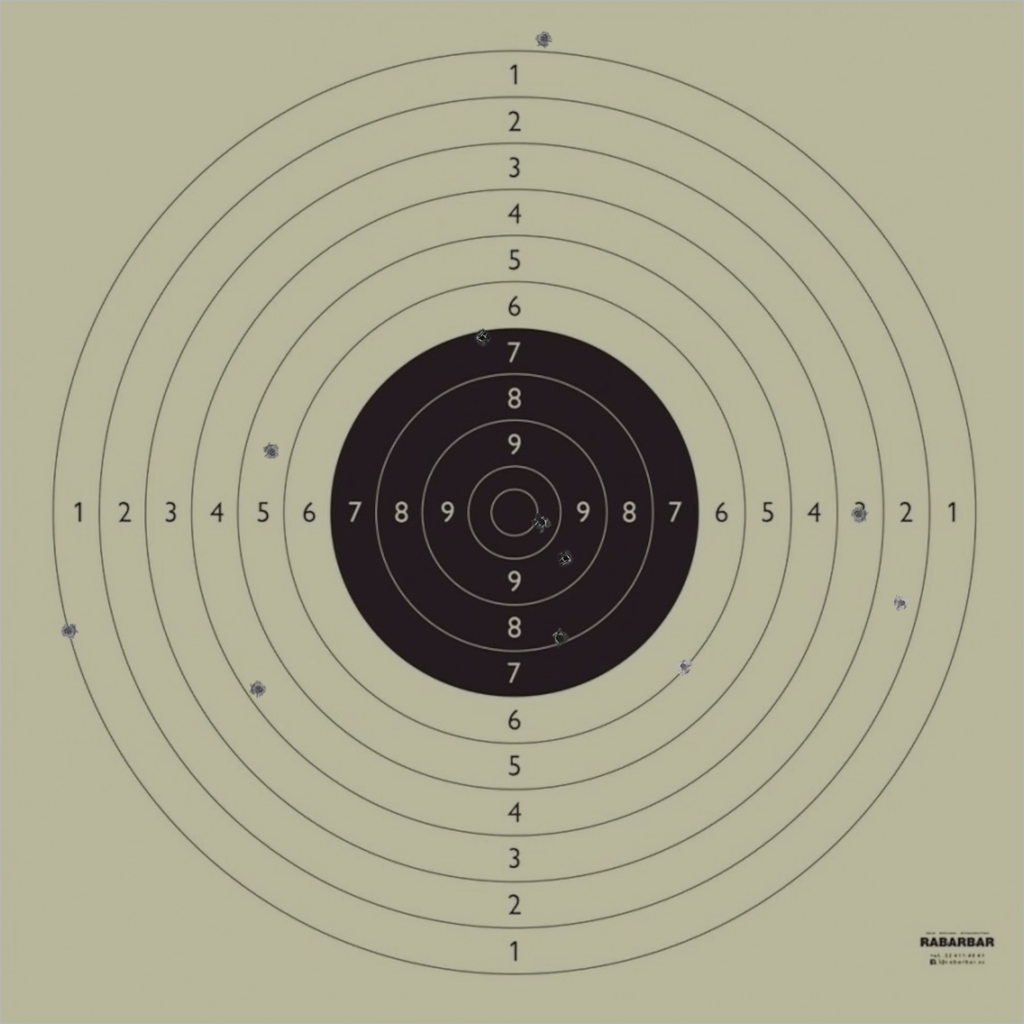0 punktow: (535, 30, 553, 48)
1 punkt: (59, 622, 78, 640)
10 punktow: (532, 513, 550, 531)
2 punkty: (892, 594, 911, 612)
3 punkty: (850, 505, 868, 523)
4 punkty: (249, 680, 268, 698)
5 punktow: (262, 443, 281, 461)
6 punktow: (675, 657, 693, 676)
7 punktow: (473, 329, 491, 347)
8 punktow: (551, 629, 569, 647)
9 punktow: (557, 549, 575, 568)
